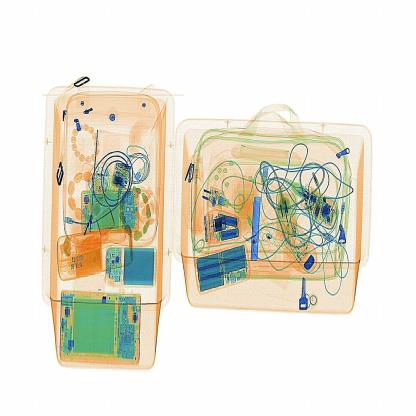pliers: (248, 194, 264, 270)
